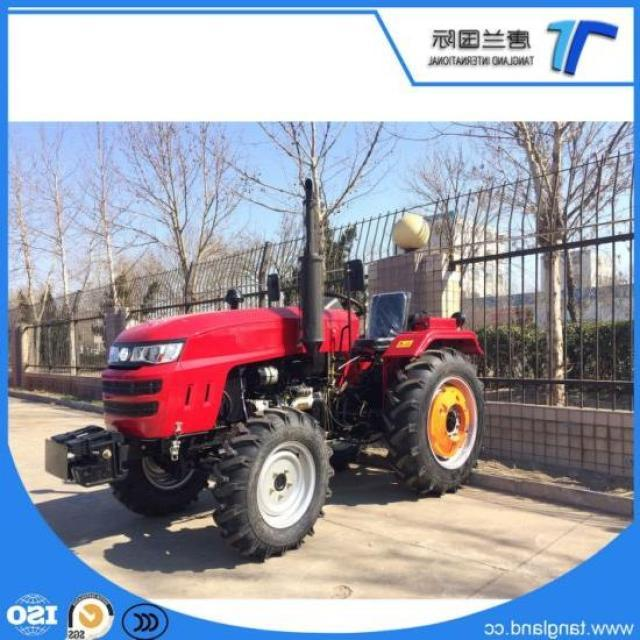Tratores - v5 YOLO V8L 2024-11-13: (36, 170, 504, 558)
